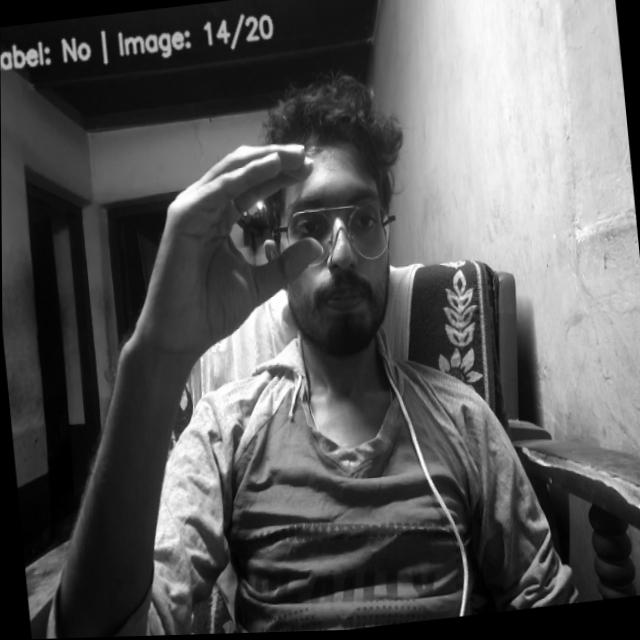No: (117, 136, 335, 369)
